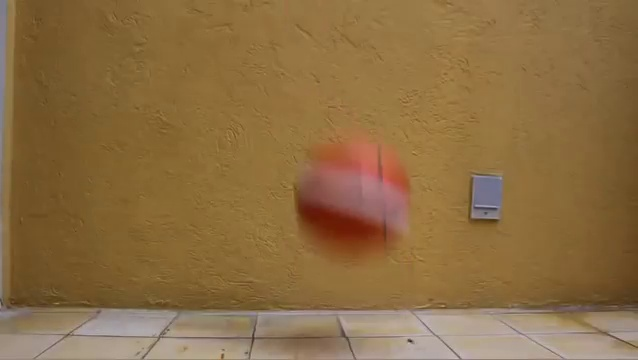ball: (292, 132, 414, 267)
